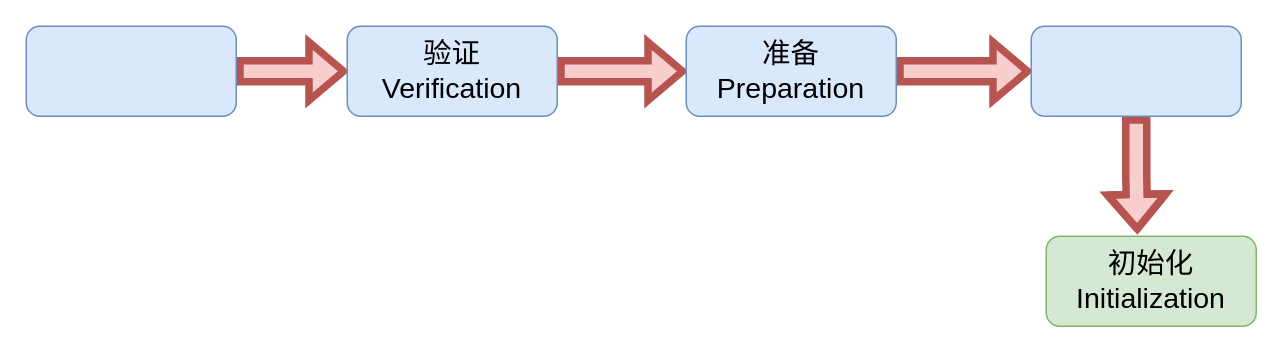
Some shapes in this 1283 by 353 pixel diagram are drawn without their labels. The shapes that lost their labels are listed below. From the top down, each one's box as (x1, y1, x2, y2) in pixels, then its label:
(25, 25, 236, 116): 加载 Loading
(1030, 25, 1241, 116): 解析 Resolution
